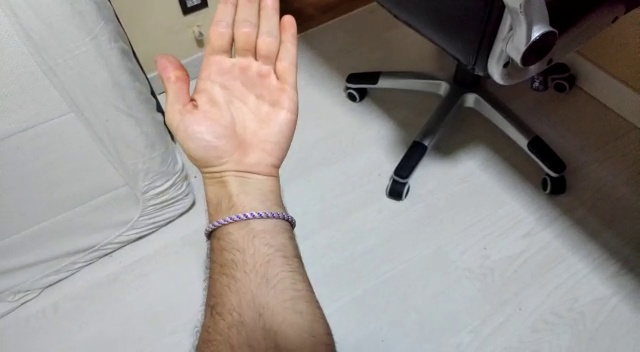Palm: (152, 1, 302, 189)
